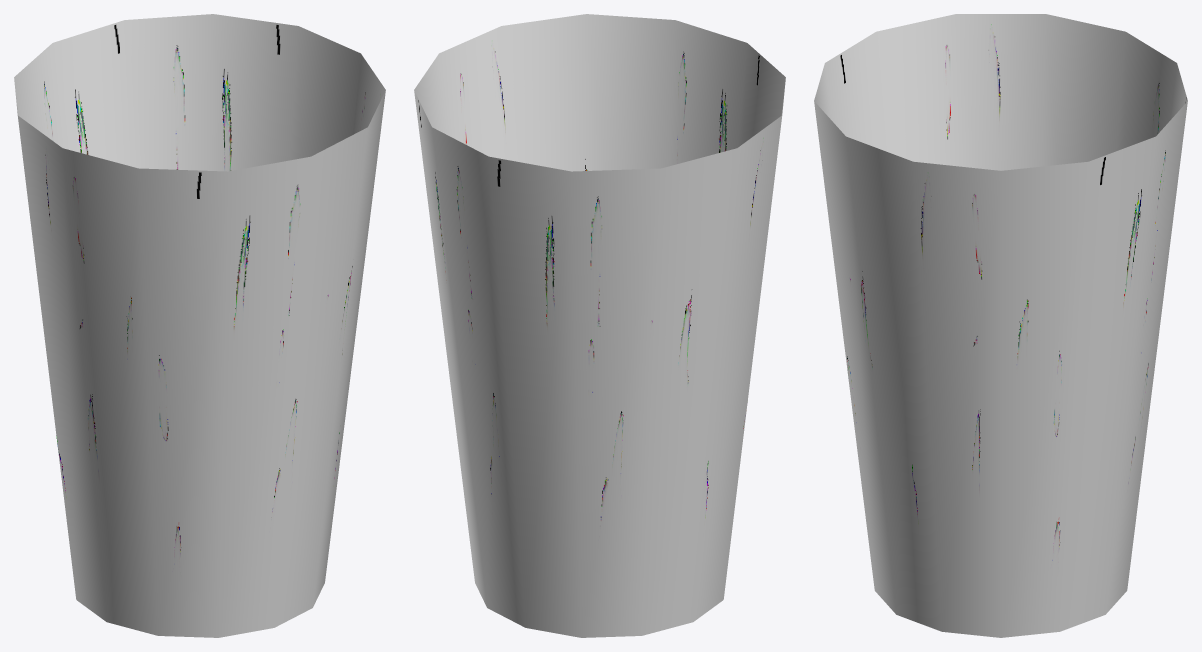
Rendered from Impact_Particle_Mesh.FBX.
3 renders of one model, left to right at view 1: azimuth 30°, elevation 25°; view 2: azimuth 150°, elevation 25°; view 3: azimuth 270°, elevation 25°, orthographic.
Parts seen in each view (by area): view 1: Cylinder001; view 2: Cylinder001; view 3: Cylinder001.
Part boxes in pixels (x1,y1,x2,y2): Cylinder001: (14,14,385,637); Cylinder001: (414,14,785,637); Cylinder001: (814,14,1187,637).
Size of the model in its own units: 5.19 by 7.61 by 5.23.
